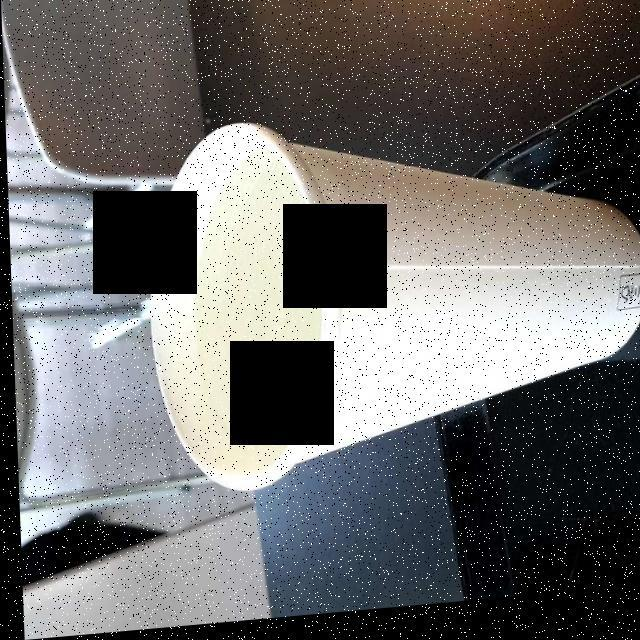water: (184, 161, 319, 457)
